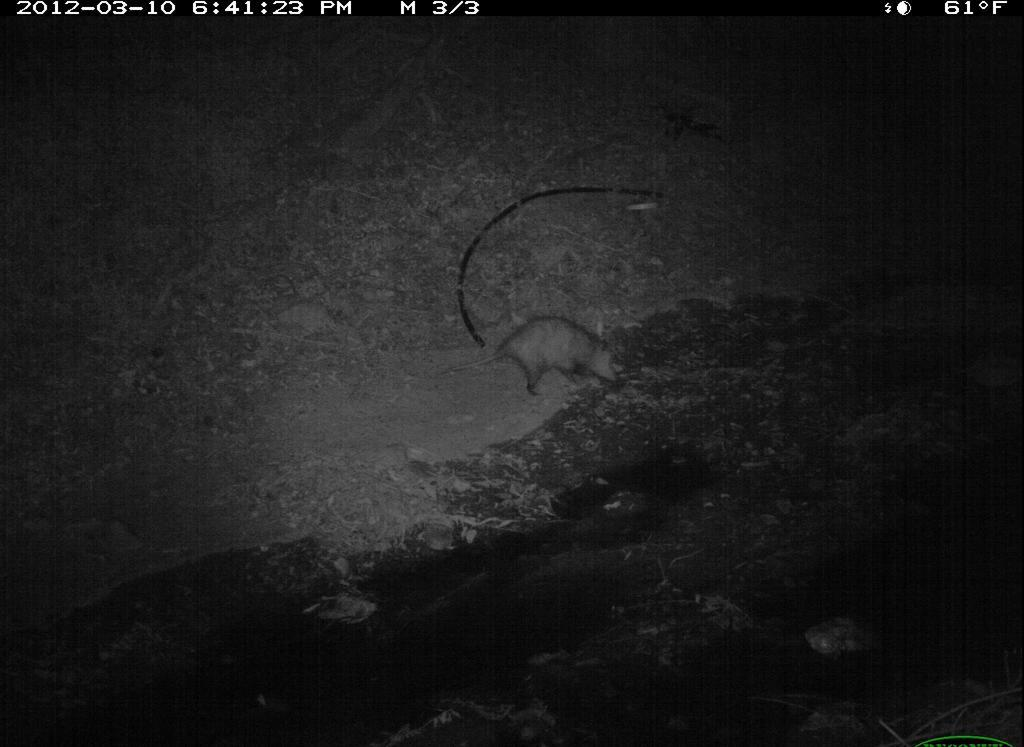opossum: (449, 313, 630, 401)
